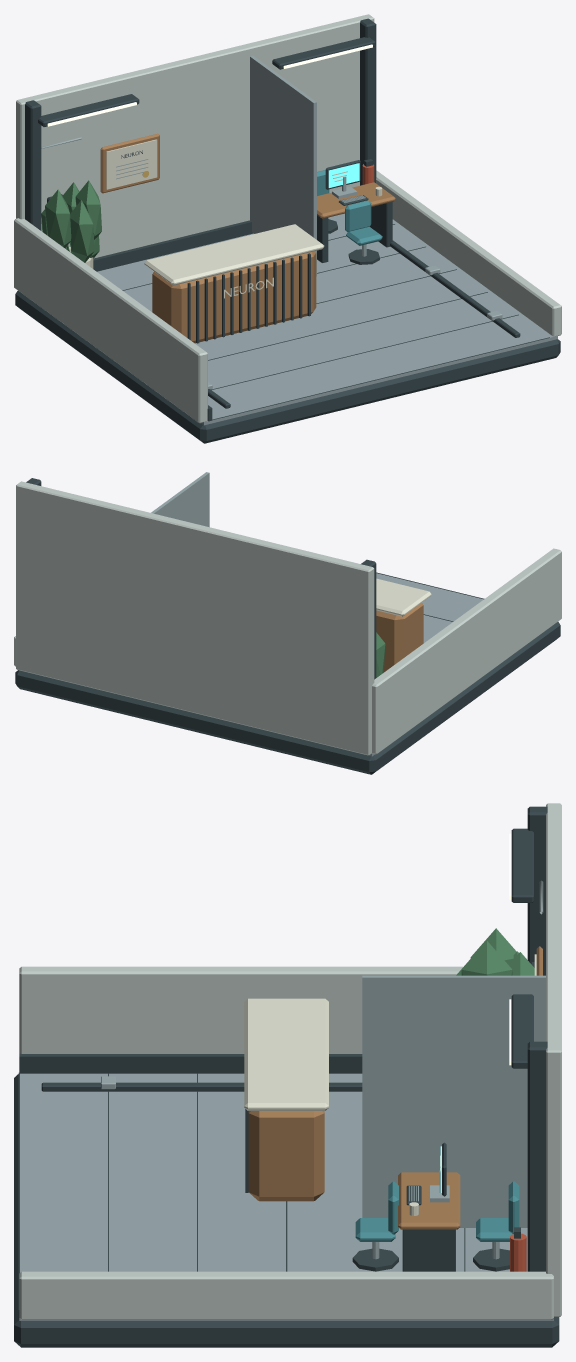
3 views of the same model, one above another, from view 1: azimuth 30°, elevation 25°; view 2: azimuth 150°, elevation 25°; view 3: azimuth 270°, elevation 25° (orthographic). The views are drawn at different scales.
Visible parts, largest first — view 1: 02 / painted plaster, 01 / mineral floor, 03 / charcoal steel, 04 / brushed alloy, 05 / warm oak, 06 / ivory, 10 / foliage, 08 / glass, 07 / illumination, 12 / screen; view 2: 02 / painted plaster, 03 / charcoal steel, 01 / mineral floor, 05 / warm oak, 04 / brushed alloy, 06 / ivory; view 3: 02 / painted plaster, 01 / mineral floor, 03 / charcoal steel, 04 / brushed alloy, 05 / warm oak, 06 / ivory, 08 / glass, 10 / foliage.
Boxes of the visible parts, left/top/right/bottom form: 02 / painted plaster: left=14, top=14, right=561, bottom=423; 01 / mineral floor: left=97, top=213, right=557, bottom=425; 03 / charcoal steel: left=15, top=18, right=560, bottom=443; 04 / brushed alloy: left=41, top=56, right=502, bottom=389; 05 / warm oak: left=100, top=133, right=395, bottom=343; 06 / ivory: left=69, top=139, right=382, bottom=298; 10 / foliage: left=41, top=180, right=101, bottom=262; 08 / glass: left=317, top=170, right=382, bottom=245; 07 / illumination: left=47, top=44, right=372, bottom=126; 12 / screen: left=328, top=163, right=359, bottom=187; 02 / painted plaster: left=14, top=481, right=561, bottom=755; 03 / charcoal steel: left=15, top=478, right=560, bottom=774; 01 / mineral floor: left=18, top=573, right=483, bottom=756; 05 / warm oak: left=376, top=603, right=423, bottom=672; 04 / brushed alloy: left=151, top=472, right=209, bottom=527; 06 / ivory: left=376, top=578, right=431, bottom=616; 02 / painted plaster: left=19, top=803, right=561, bottom=1319; 01 / mineral floor: left=19, top=1073, right=553, bottom=1320; 03 / charcoal steel: left=14, top=806, right=559, bottom=1347; 04 / brushed alloy: left=101, top=880, right=545, bottom=1259; 05 / warm oak: left=248, top=946, right=542, bottom=1229; 06 / ivory: left=244, top=954, right=536, bottom=1215; 08 / glass: left=355, top=1181, right=519, bottom=1241; 10 / foliage: left=456, top=928, right=534, bottom=975.
Bounding box in the file's own units: 6.78 × 3.68 × 6.15.
